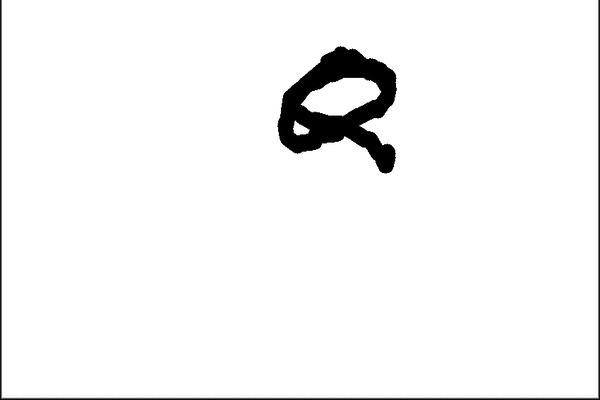Q: (272, 36, 405, 181)
